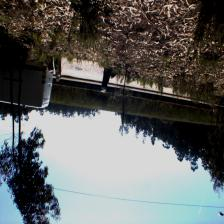trunktrack_idkeyframe: (18, 67, 22, 102), (10, 67, 14, 101)
